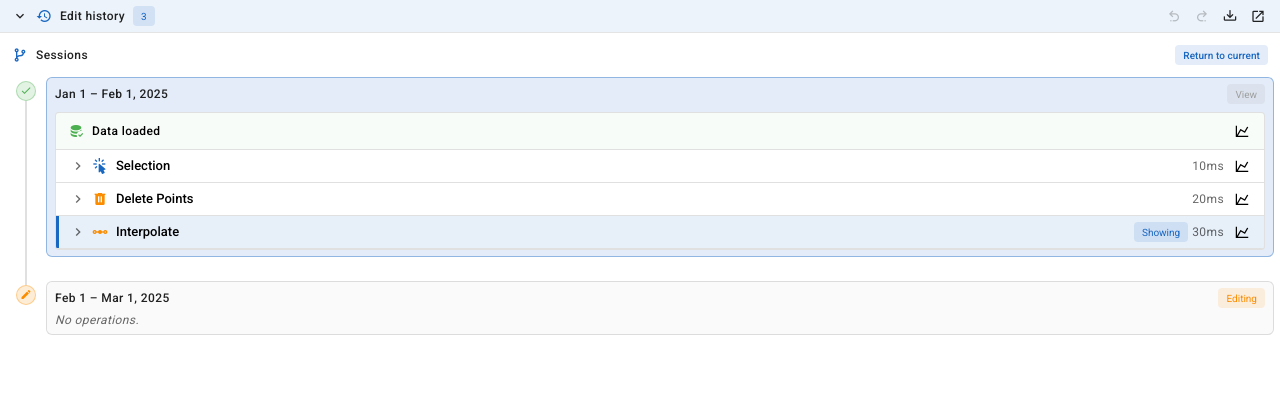
it: EditHistory.vue actions › read-only session › shows the timings the replay produced, not the originals
Step 1. Click the element with class "edit-history__row" showing "Delete Points 20ms" → (660, 199), box [56,183,1264,215]
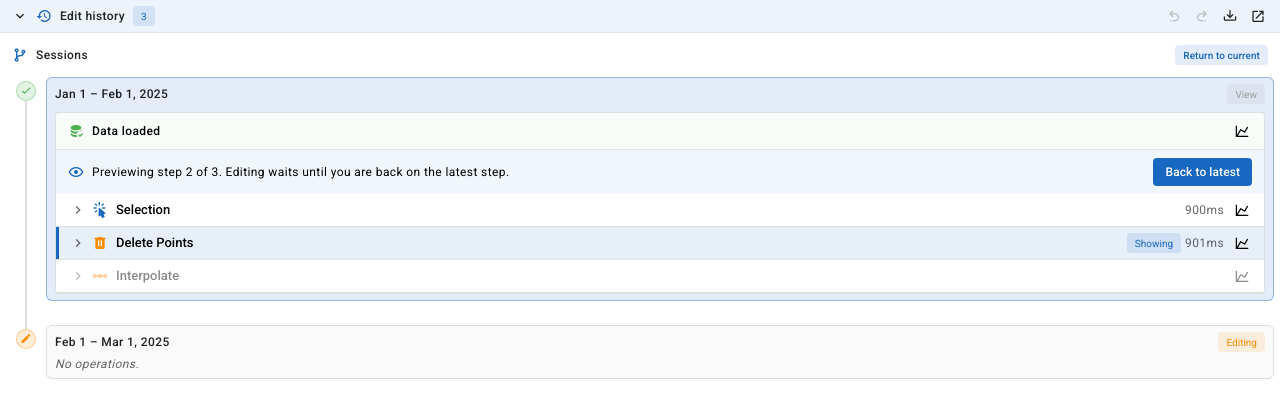
Expected: the text with test id "history-duration-0" shows "900", [1185,202,1224,218]
Expected: the text with test id "history-duration-1" shows "901", [1185,235,1224,251]
